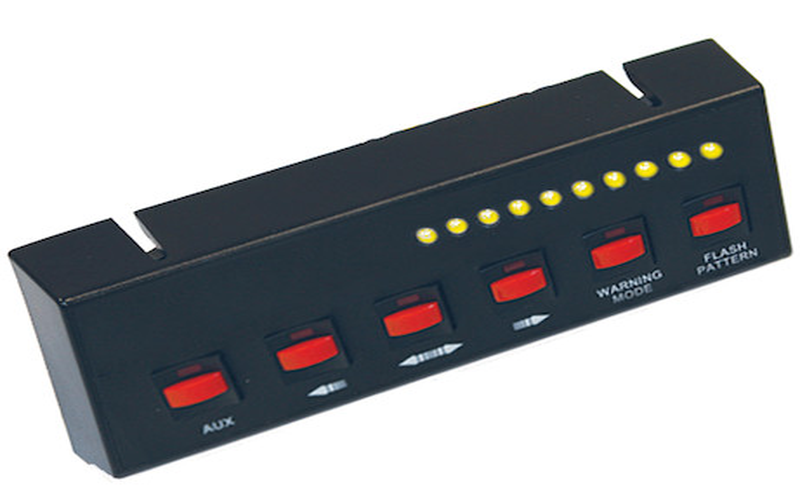Switches: (18, 46, 800, 482)
